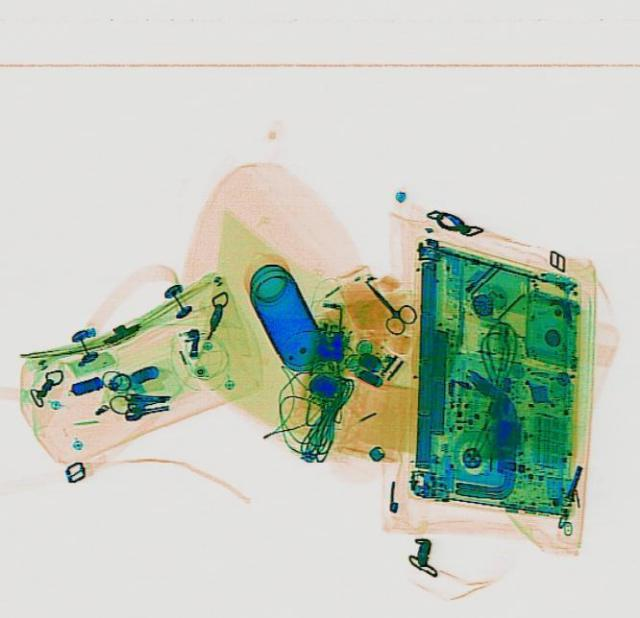Scissors: (348, 268, 422, 336)
